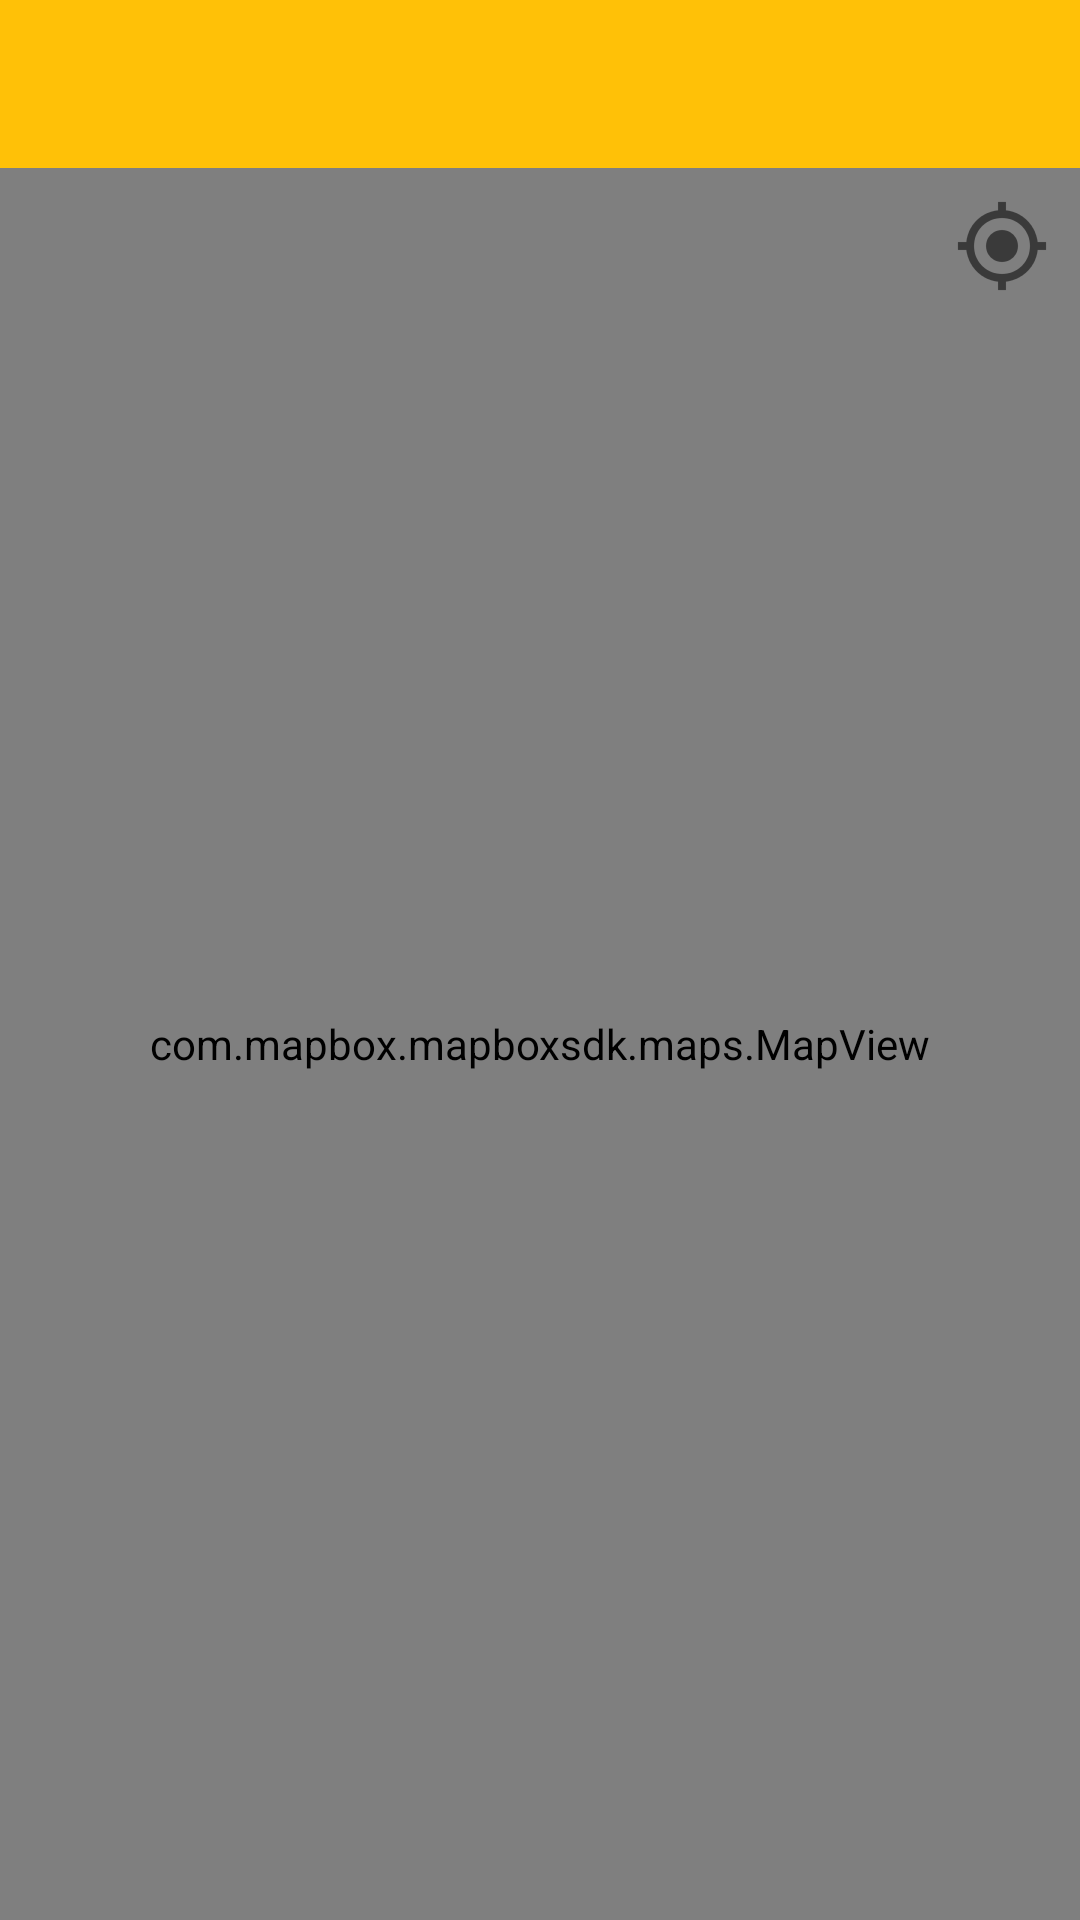

Where to tap for icons on this 1080px x 1920px app screen, as (x,y):
location: (1002,246)
